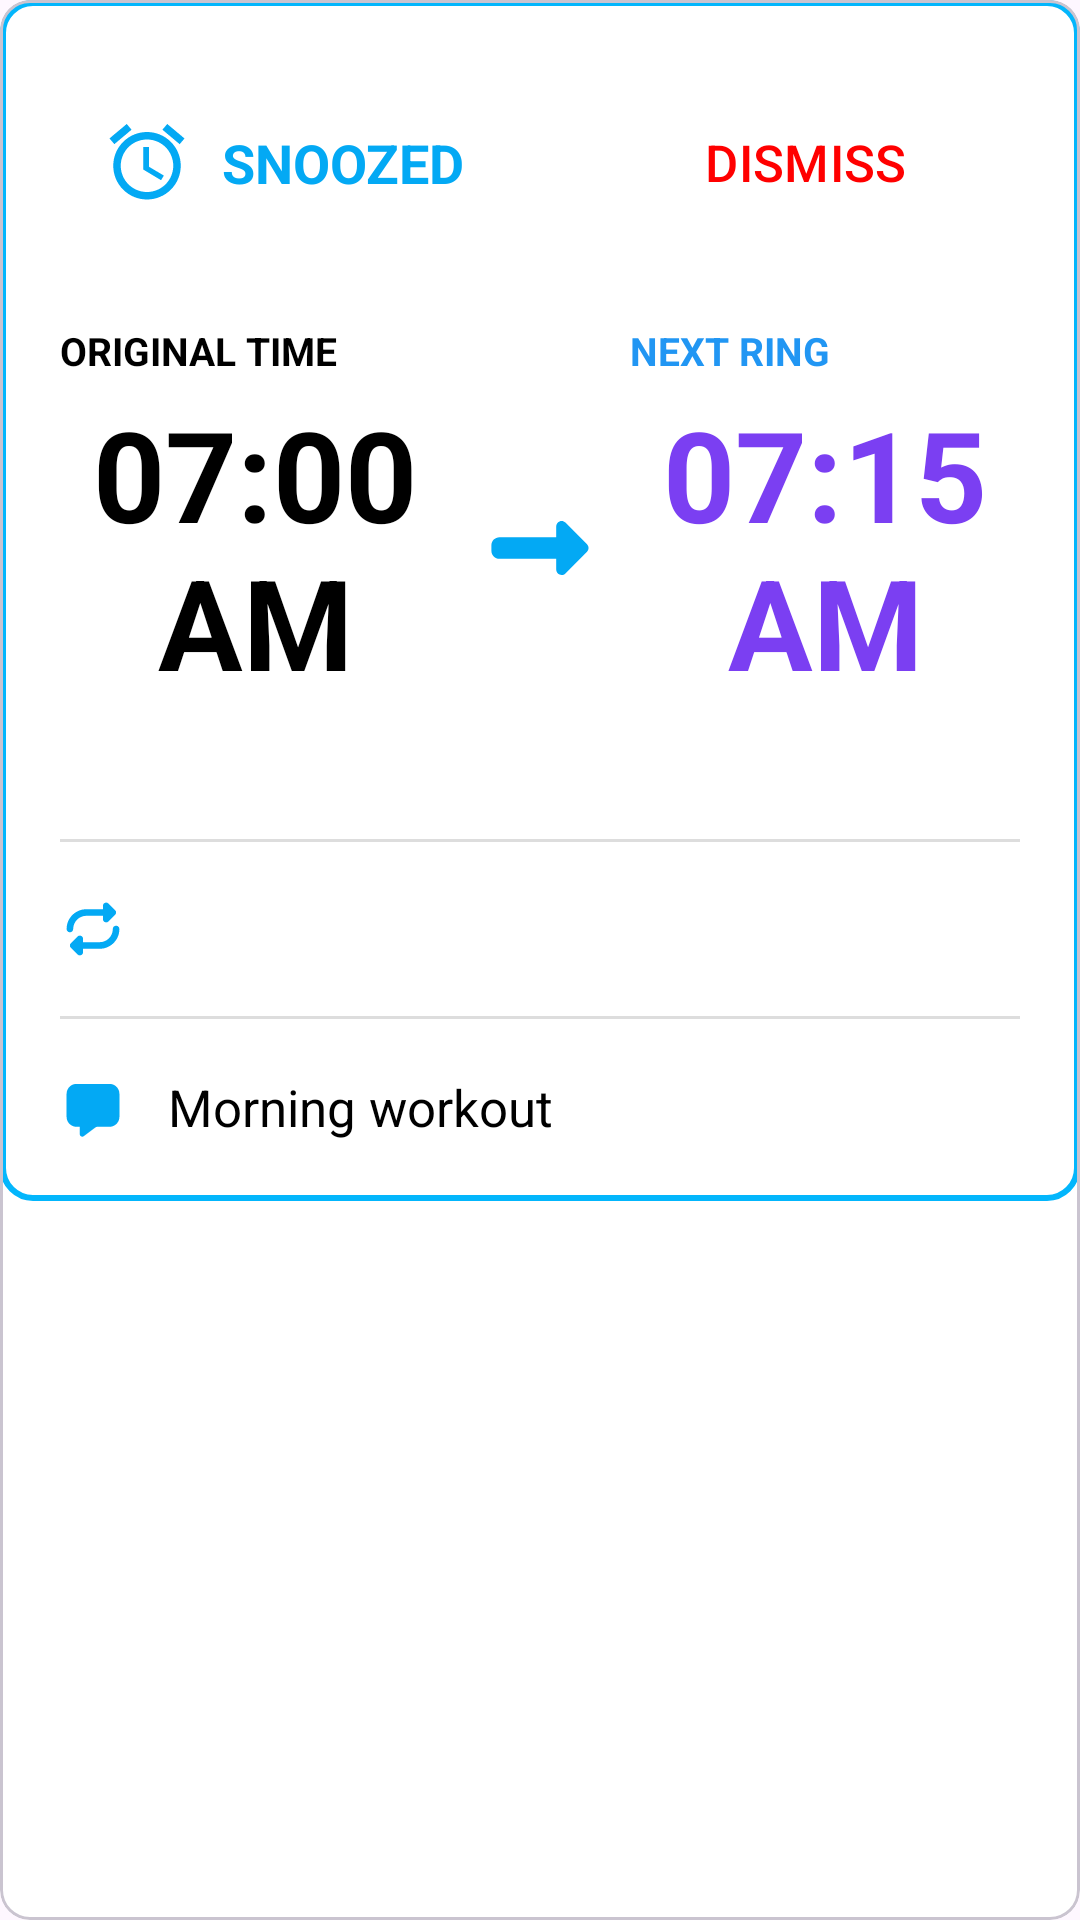

Icon click points for this 1080×1920 phone screenshot, format (x,y):
alarm: (147,162)
message: (93,1110)
repeat: (93,929)
right arrow long: (540,548)
